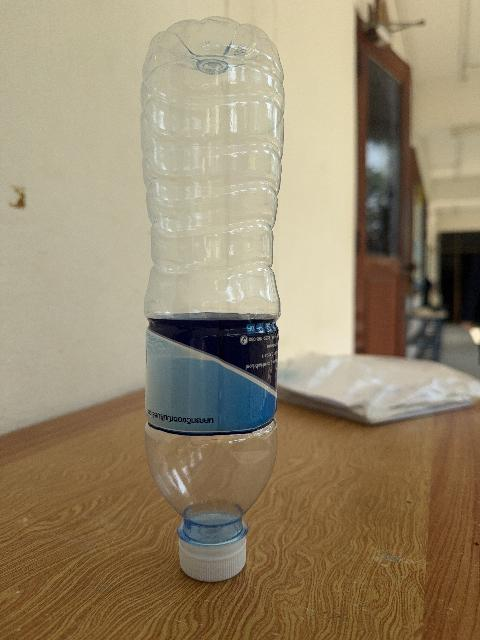bottle: (141, 18, 282, 581)
